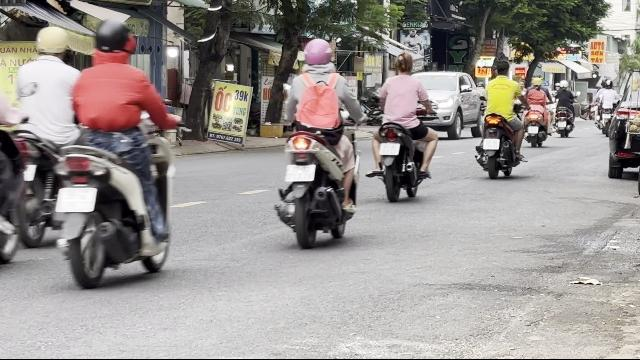helmet: (91, 17, 135, 62), (33, 25, 71, 61), (300, 38, 336, 70)
licenseplate: (57, 187, 95, 211), (285, 164, 313, 180), (380, 143, 400, 155)
motorcyclist: (52, 15, 180, 288), (5, 24, 89, 252), (274, 37, 362, 247), (366, 52, 438, 200)
nohelmet: (394, 52, 414, 74)
